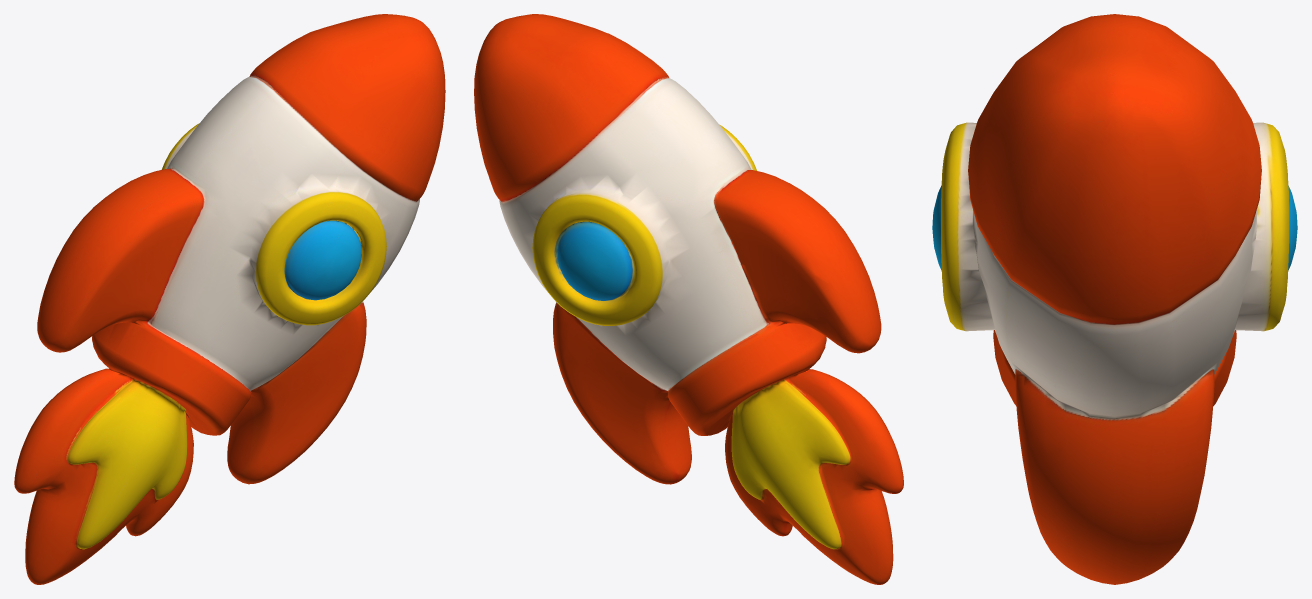
File: jet.glb
The picture shows the model from 3 angles, left to right: view 1: azimuth 30°, elevation 25°; view 2: azimuth 150°, elevation 25°; view 3: azimuth 270°, elevation 25°; orthographic projection. The views are drawn at different scales.
Visible parts, largest first — view 1: tripo_node_2fac91dd-4575-4bd9-951b-a9cf4db17b70; view 2: tripo_node_2fac91dd-4575-4bd9-951b-a9cf4db17b70; view 3: tripo_node_2fac91dd-4575-4bd9-951b-a9cf4db17b70.
Part boxes in pixels (box(x1,y1,x2,y2)): tripo_node_2fac91dd-4575-4bd9-951b-a9cf4db17b70: box(14, 14, 445, 584); tripo_node_2fac91dd-4575-4bd9-951b-a9cf4db17b70: box(474, 14, 903, 584); tripo_node_2fac91dd-4575-4bd9-951b-a9cf4db17b70: box(932, 14, 1297, 584).
Size of the model in its own units: 0.9155 by 0.9995 by 0.4751.
Materials: 1 (1 with a texture image).
